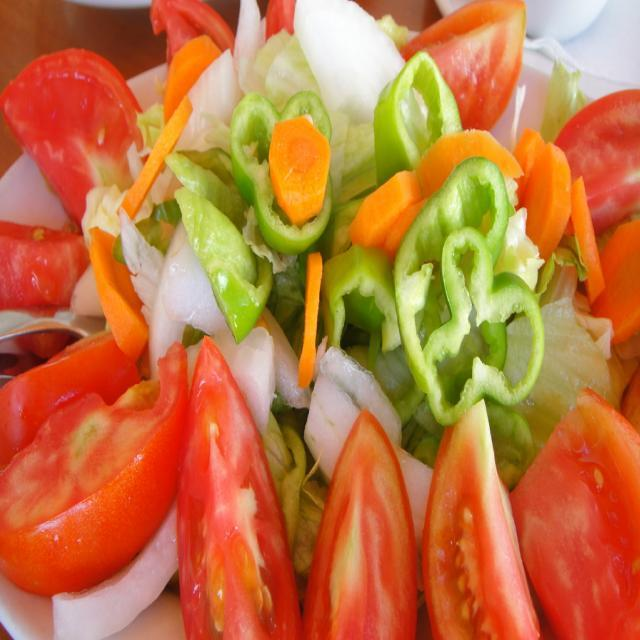Tomato: (0, 0, 639, 639), (4, 335, 172, 587)
